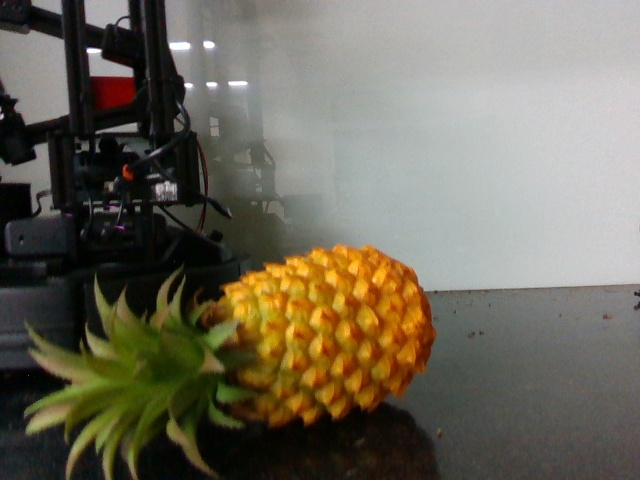pineapple: (22, 242, 434, 475)
